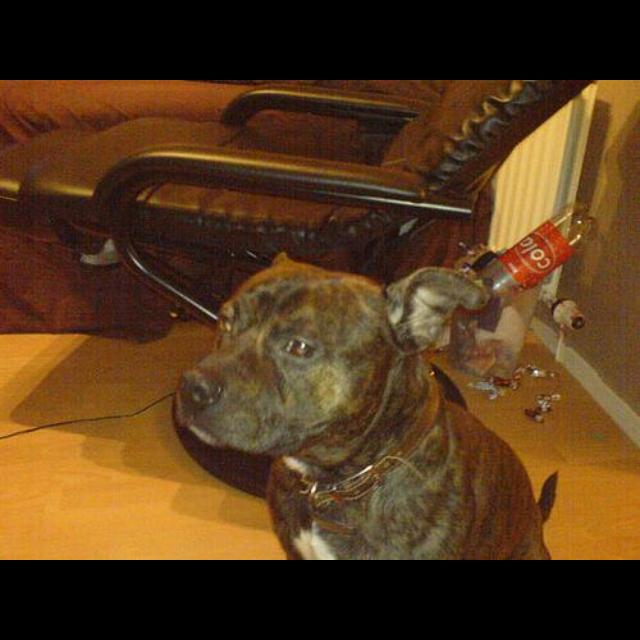staffford: (174, 251, 559, 559)
